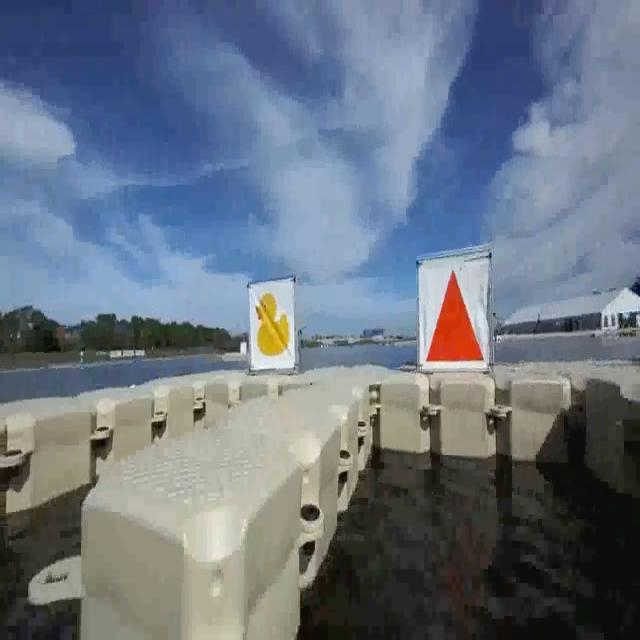red-dot: (423, 258, 491, 367)
yellow-duck: (245, 281, 299, 370)
